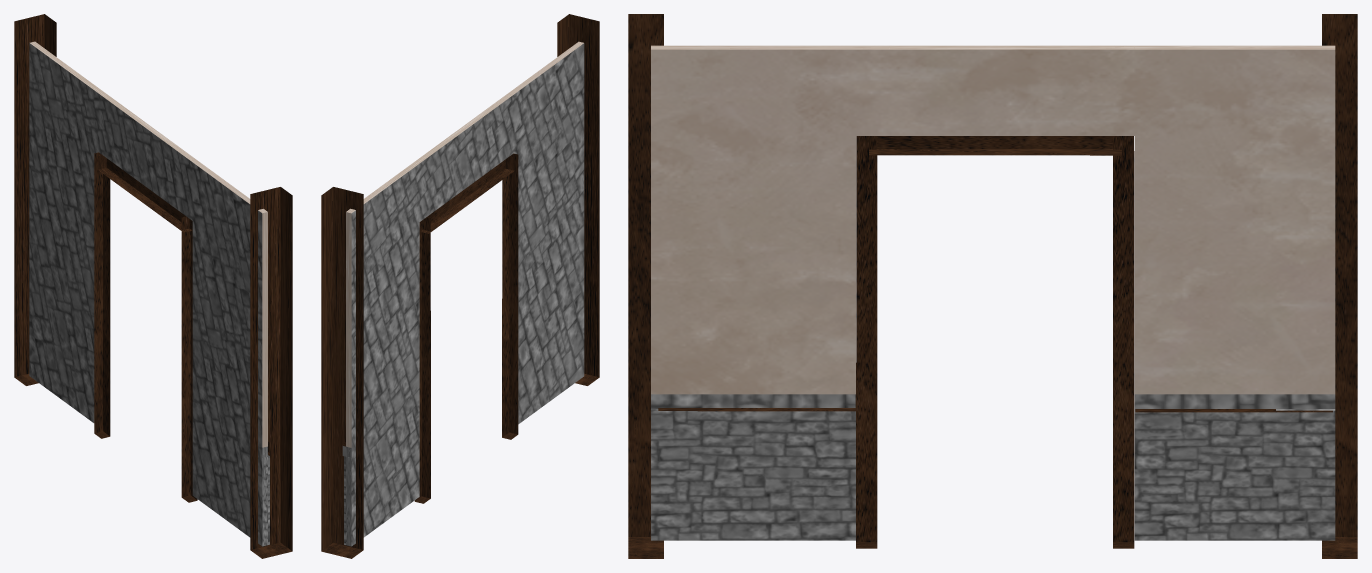
Rendered from prorta.glb.
3 renders of one model, left to right at view 1: azimuth 30°, elevation 25°; view 2: azimuth 150°, elevation 25°; view 3: azimuth 270°, elevation 25°, orthographic. The views are drawn at different scales.
Parts seen in each view (by area): view 1: Cube; view 2: Cube; view 3: Cube.
Boxes of the visible parts, x1,y1,x2,y2 form: Cube: (14,14,292,558); Cube: (321,14,599,558); Cube: (628,14,1357,558).
Size of the model in its own units: 1.19 by 13.3 by 16.73.
Materials: 4 (4 with a texture image).
